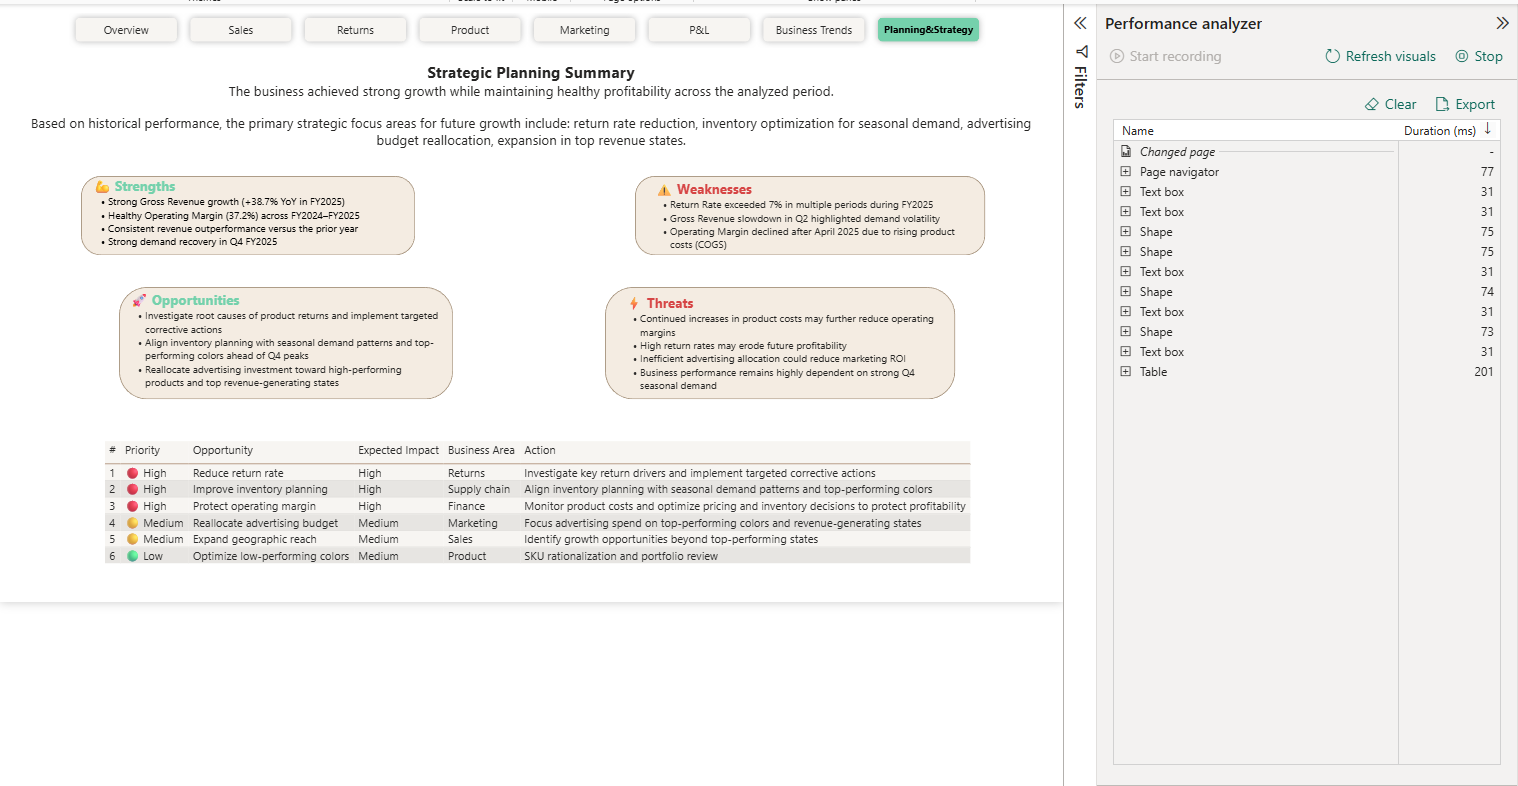

This screenshot's page, from the dashboard's own definition file:
{"tool":"powerbi","page":{"name":"Planning&Strategy","canvas":[1280,720],"ordinal":7},"visuals":[{"type":"pageNavigator","box":[83.1,8.7,1104.2,45.4],"z":0},{"type":"textbox","box":[14.8,64,1250.3,124.2],"z":1000},{"type":"shape","box":[97.3,206.7,402.3,95.5],"z":2000},{"type":"textbox","box":[106.6,203.9,383.7,102],"z":3000},{"type":"shape","box":[764.7,206.7,421.7,95.5],"z":4000},{"type":"textbox","box":[784.1,206.7,382.8,95.5],"z":5000},{"type":"shape","box":[142.7,341.1,402.3,135.3],"z":6000},{"type":"shape","box":[728.5,341.1,421.7,135.3],"z":7000},{"type":"textbox","box":[748,344.8,382.8,127.9],"z":8000},{"type":"textbox","box":[152,341.1,383.7,130.7],"z":9000},{"type":"tableEx","fields":{"Values":["Growth Opportunities.#","Growth Opportunities.Priority","Growth Opportunities.Opportunity","Growth Opportunities.Expected Impact","Growth Opportunities.Business Area","Growth Opportunities.Action"]},"box":[120.5,520.9,1055.7,172.4],"z":10000}]}

Visuals, with their boxes on the page's 1280x720 design canvas (x1, y1, x2, y2). These are canvas units, not pixel positions in the 1518x786 screenshot, which may show the page scaled, cropped or inside an application window:
pageNavigator: 83:9:1187:54
textbox: 15:64:1265:188
shape: 97:207:500:302
textbox: 107:204:490:306
shape: 765:207:1186:302
textbox: 784:207:1167:302
shape: 143:341:545:476
shape: 728:341:1150:476
textbox: 748:345:1131:473
textbox: 152:341:536:472
tableEx - Growth Opportunities.# x Growth Opportunities.Priority: 120:521:1176:693
